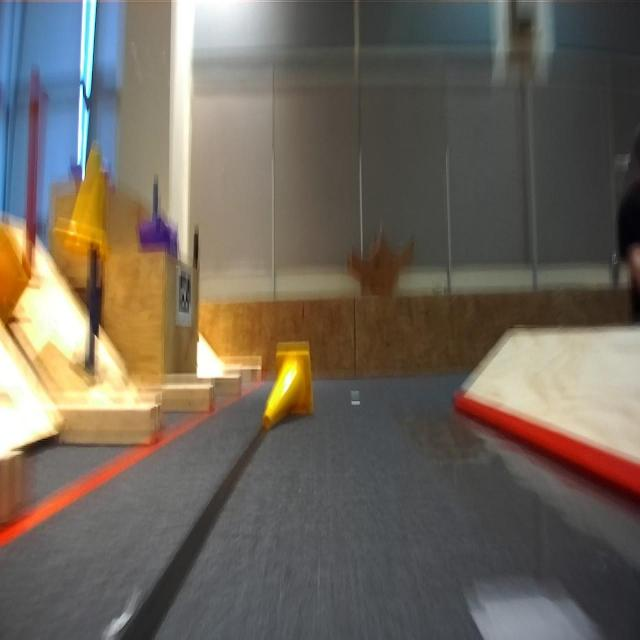frc_cone: (60, 143, 106, 259), (262, 341, 314, 439)
frc_cube: (136, 206, 174, 252)
